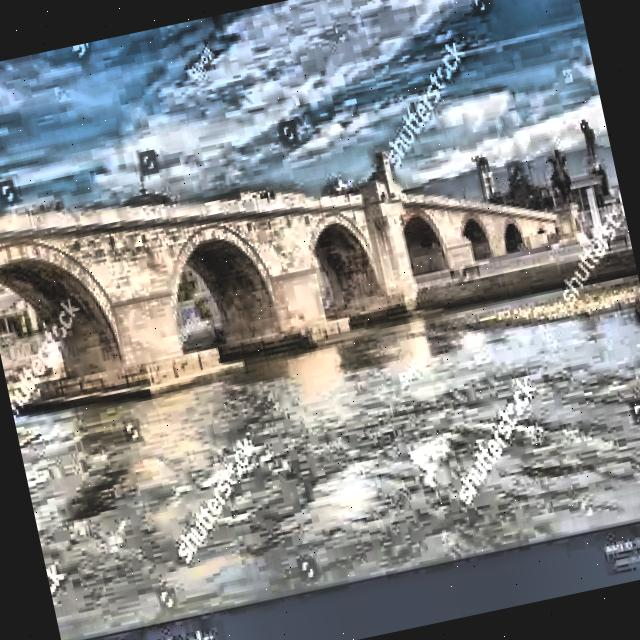Philip II of Macedonia: (568, 106, 618, 227)
stone bridge: (0, 97, 571, 392)
